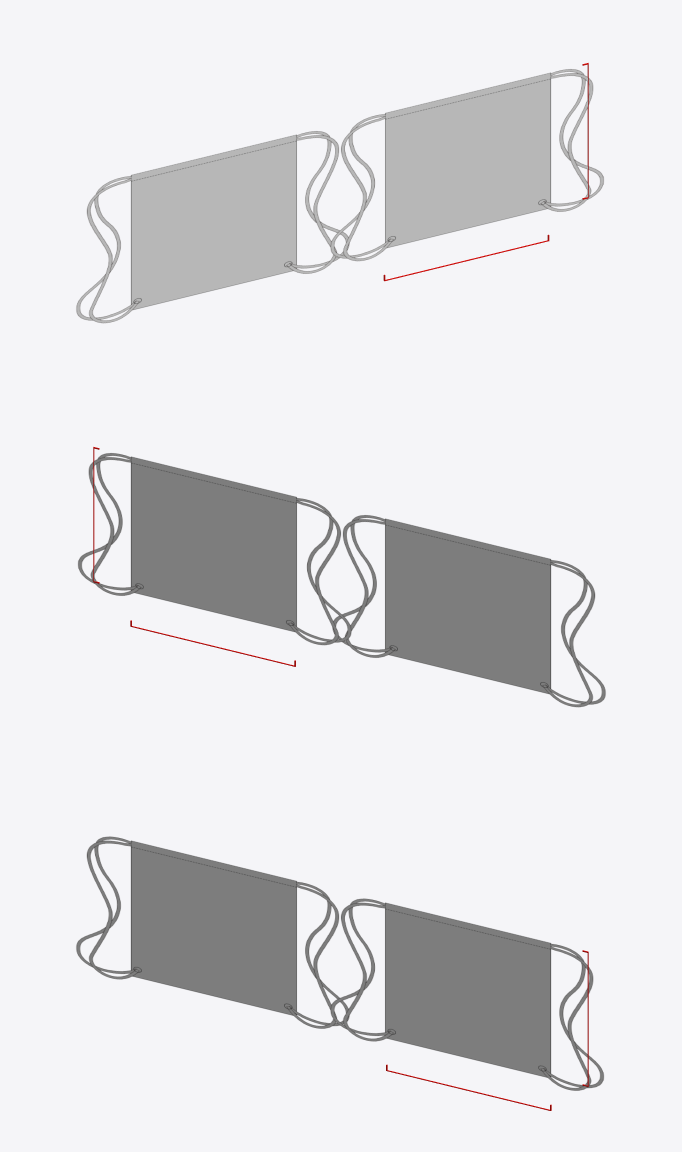
File: 无纺布袋-束口.glb
The picture shows the model from 3 angles, top to bottom: view 1: azimuth 30°, elevation 25°; view 2: azimuth 150°, elevation 25°; view 3: azimuth 330°, elevation 25°; orthographic projection.
Visible parts, largest first — view 1: bag; view 2: bag; view 3: bag.
Boxes of the visible parts, x1=… form: bag: x1=76, y1=69, x2=603, y2=323; bag: x1=78, y1=453, x2=605, y2=707; bag: x1=76, y1=836, x2=603, y2=1090.
Bounding box in the file's own units: 1.18 × 0.343 × 0.00545.
2 materials, 1 textured.
